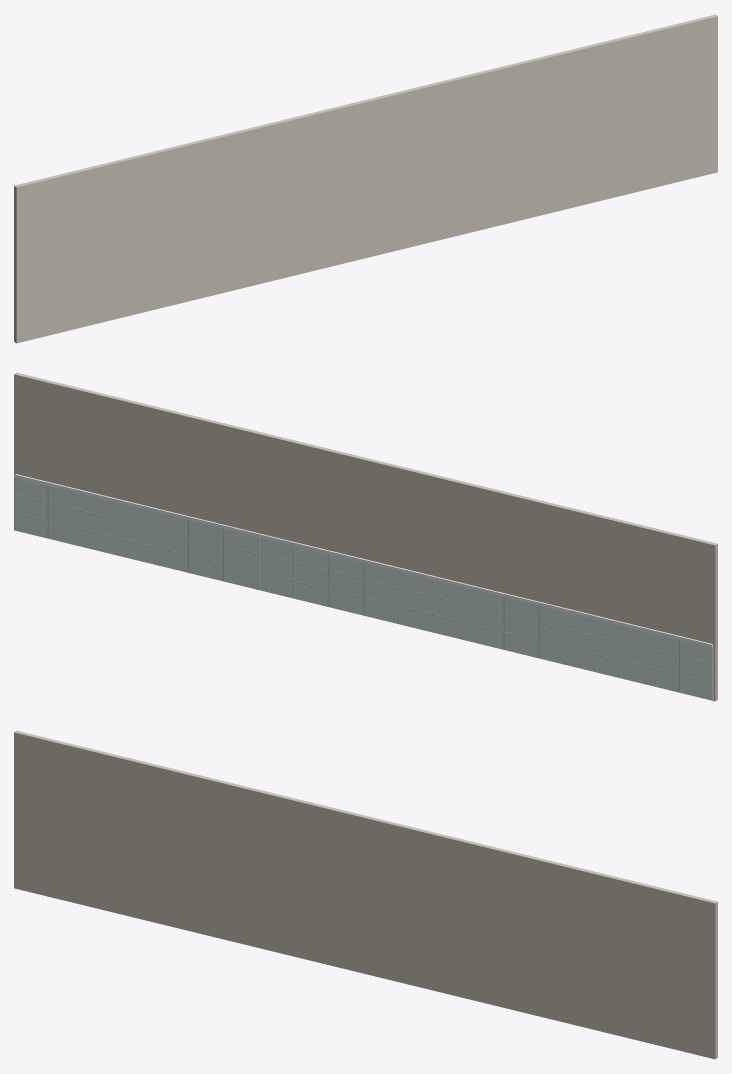
Rendered from wall-back.glb.
The picture shows the model from 3 angles, top to bottom: view 1: azimuth 30°, elevation 25°; view 2: azimuth 150°, elevation 25°; view 3: azimuth 330°, elevation 25°; orthographic projection.
Parts seen in each view (by area): view 1: wall_shell; view 2: wall_shell, tile_skirt, molding, tile_joint_h_0, tile_joint_h_1; view 3: wall_shell.
Boxes of the visible parts, bbox=[...] form: wall_shell: bbox=[14, 14, 717, 343]; wall_shell: bbox=[14, 372, 717, 701]; tile_skirt: bbox=[15, 478, 713, 700]; molding: bbox=[15, 474, 712, 647]; tile_joint_h_0: bbox=[15, 512, 712, 683]; tile_joint_h_1: bbox=[15, 494, 712, 665]; wall_shell: bbox=[14, 730, 717, 1059].
Bounding box in the file's own units: 16 × 3.4 × 0.1475.
